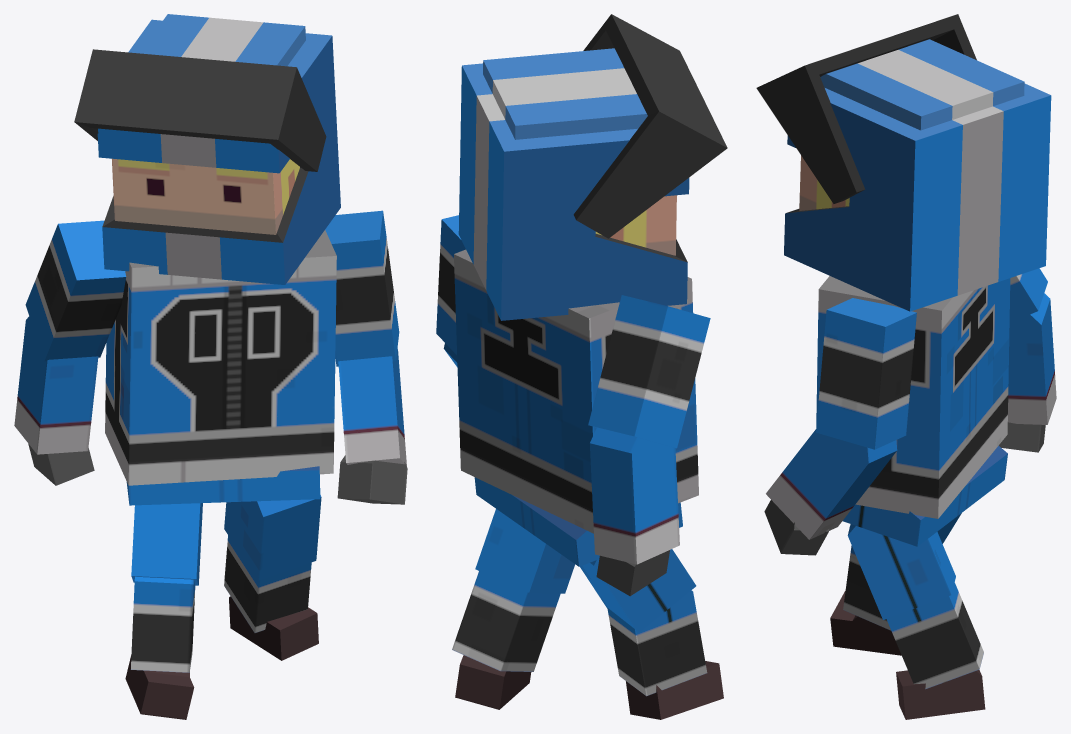
The model's file is Character_Pose_02.fbx.
3 renders of one model, left to right at view 1: azimuth 30°, elevation 25°; view 2: azimuth 150°, elevation 25°; view 3: azimuth 270°, elevation 25°, orthographic. The views are drawn at different scales.
Parts seen in each view (by area): view 1: Character_Pose_02; view 2: Character_Pose_02; view 3: Character_Pose_02.
Part boxes in pixels (x1=…): Character_Pose_02: x1=14, y1=14, x2=407, y2=719; Character_Pose_02: x1=436, y1=14, x2=727, y2=719; Character_Pose_02: x1=756, y1=14, x2=1056, y2=719.
Bounding box in the file's own units: 149 × 297 × 129.
1 material, 1 textured.
